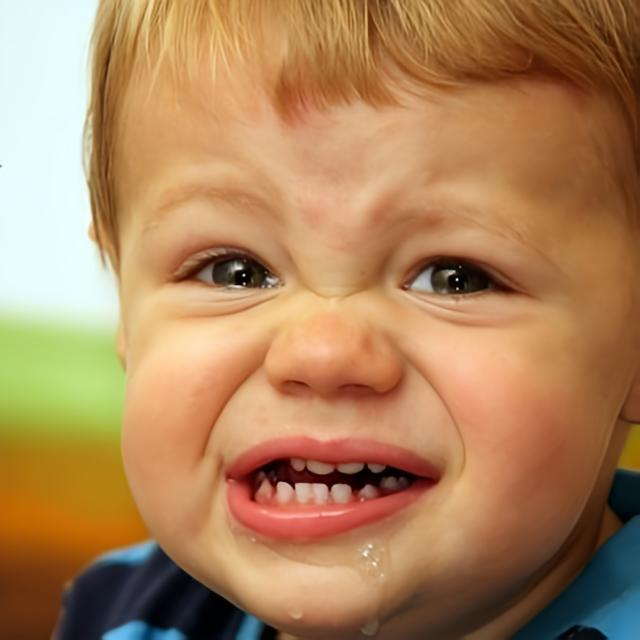sad: (116, 1, 640, 640)
